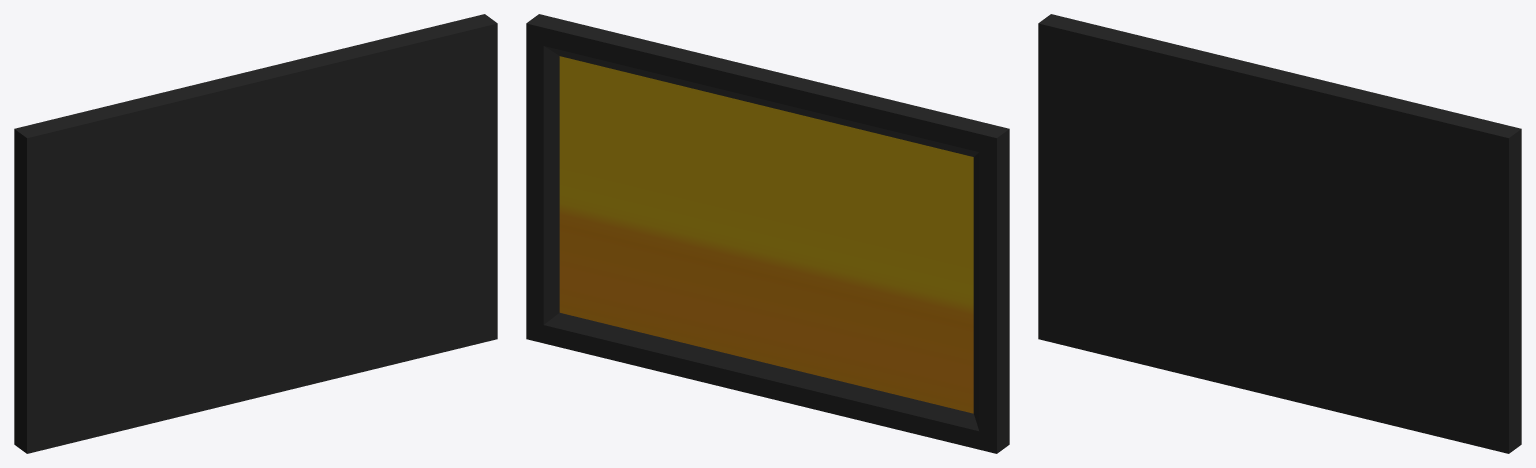
File: tranh5.fbx
3 views of the same model, side by side, from view 1: azimuth 30°, elevation 25°; view 2: azimuth 150°, elevation 25°; view 3: azimuth 330°, elevation 25° (orthographic).
Visible parts, largest first — view 1: tranh5; view 2: tranh5; view 3: tranh5.
Boxes of the visible parts, x1,y1,x2,y2 form: tranh5: (14,14,497,453); tranh5: (526,14,1009,453); tranh5: (1038,14,1521,453).
Size of the model in its own units: 312 by 200 by 14.76.
